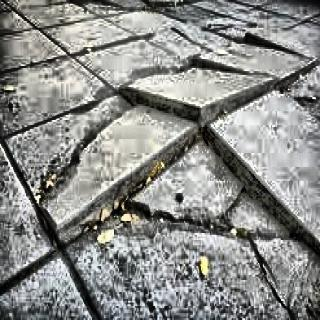alligator-crack: (10, 20, 320, 250)
